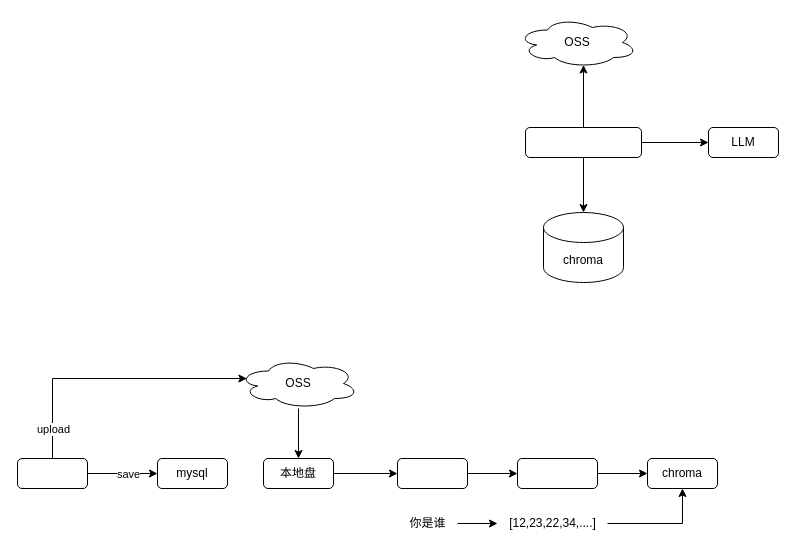
This 796x556 diagram has some shape labels left out. The shapes that lost their labels are listed below. From the top down, each one's centre as x and y in pixels, then its label:
At point (583, 142): "LLM MiddleWare".
At point (52, 473): "web".
At point (432, 473): "chunked".
At point (557, 473): "embedding".
